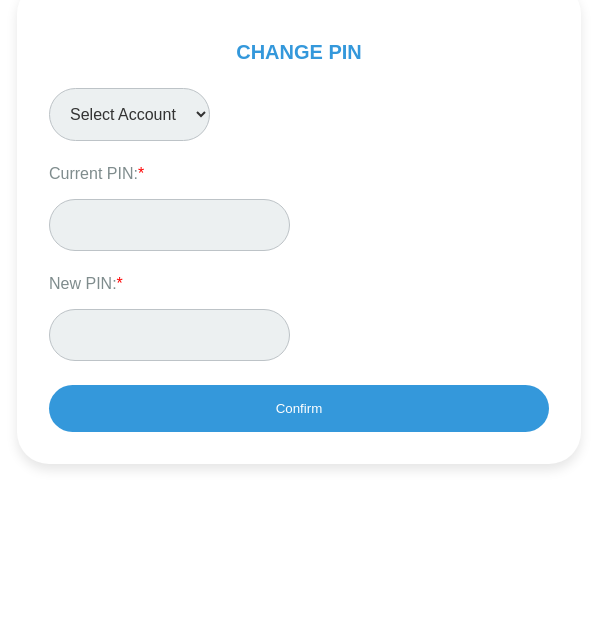
Test case: ChangePin › validates form fields
The width and height of the screenshot is (599, 630).
What coordinates should you click on to do the following:
click the button "Confirm"
I would click on:
 (299, 408)
Its box is [49,385,549,432].
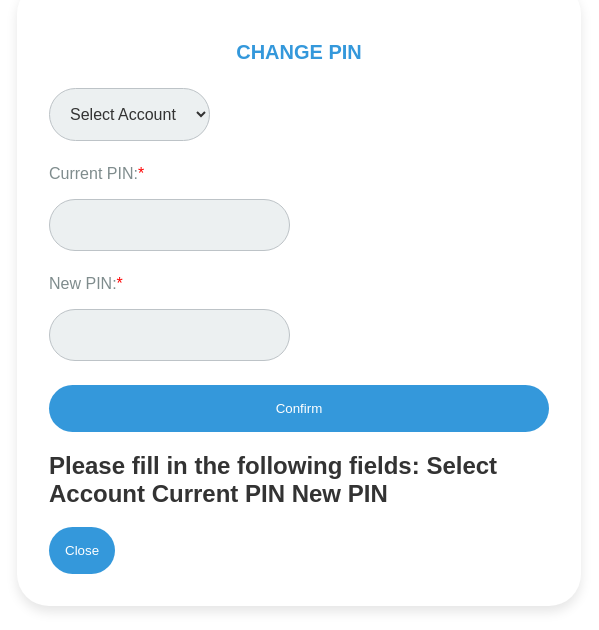
Expected: the heading "Please fill in the following fields:" is shown, [49,452,497,506]
